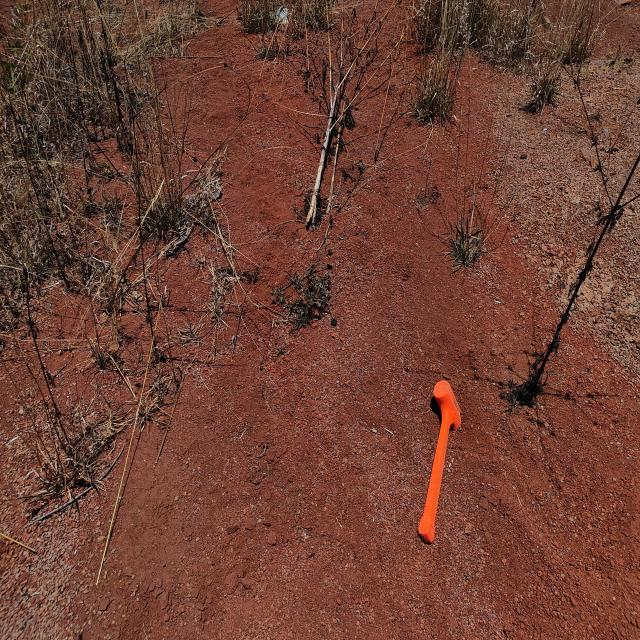Orange_hammer: (417, 379, 461, 544)
